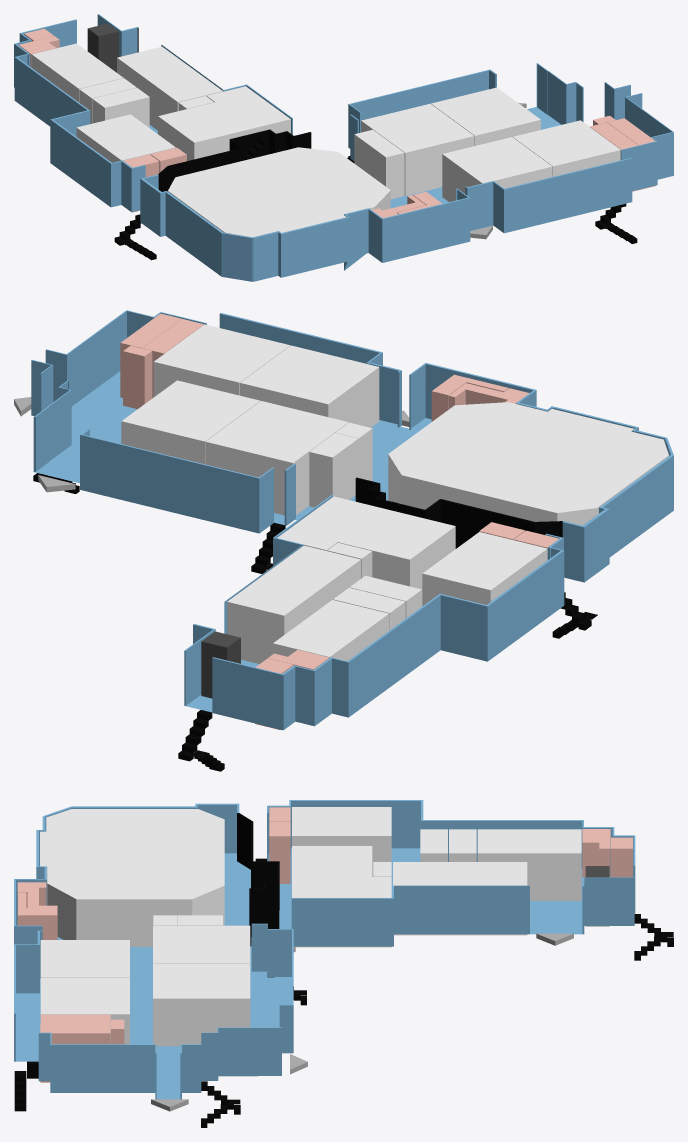
The picture shows the model from 3 angles, top to bottom: view 1: azimuth 30°, elevation 25°; view 2: azimuth 150°, elevation 25°; view 3: azimuth 270°, elevation 25°; orthographic projection. The views are drawn at different scales.
Visible parts, largest first — view 1: object, 114, 端末室3, 端末室2, 117, 端末室5, 端末室1, 118, 端末室4, 端末室6, 印刷室, 倉庫 (+11 smaller); view 2: object, 114, 端末室3, 端末室5, 端末室2, 117, 端末室1, 118, 端末室4, 端末室6, 機械室, バリアフリートイレ_1_1 (+12 smaller); view 3: object, 114, 端末室1, 端末室6, 端末室3, 端末室4, 端末室2, 118, 端末室5, 117, 女子トイレ_1_1_2, 女子トイレ_1_1_3 (+11 smaller).
Boxes of the visible parts, x1,y1,x2,y2 form: object: (14, 14, 673, 281); 114: (168, 147, 390, 281); 端末室3: (158, 86, 290, 160); 端末室2: (361, 103, 474, 195); 117: (442, 137, 552, 201); 端末室5: (117, 46, 222, 130); 端末室1: (431, 87, 540, 145); 118: (513, 120, 620, 176); 端末室4: (76, 114, 175, 162); 端末室6: (31, 43, 123, 102); 印刷室: (92, 88, 149, 127); 倉庫: (375, 145, 404, 199); object: (31, 310, 673, 730); 114: (388, 402, 668, 525); 端末室3: (277, 496, 455, 604); 端末室5: (227, 545, 360, 663); 端末室2: (205, 401, 348, 515); 117: (240, 345, 379, 427); 端末室1: (121, 380, 260, 464); 118: (153, 324, 290, 396); 端末室4: (422, 532, 547, 605); 端末室6: (273, 600, 389, 661); 機械室: (309, 433, 358, 507); バリアフリートイレ_1_1: (123, 345, 152, 409); object: (14, 800, 635, 1099); 114: (40, 809, 224, 946); 端末室1: (153, 963, 250, 1046); 端末室6: (477, 829, 581, 900); 端末室3: (292, 846, 391, 947); 端末室4: (292, 807, 391, 876); 端末室2: (153, 925, 250, 963); 118: (40, 978, 129, 1044); 端末室5: (393, 862, 527, 935); 117: (40, 940, 129, 977); 女子トイレ_1_1_2: (40, 1024, 110, 1082); 女子トイレ_1_1_3: (269, 822, 290, 883).
Size of the model in its own units: 2.34 by 0.388 by 2.44.
